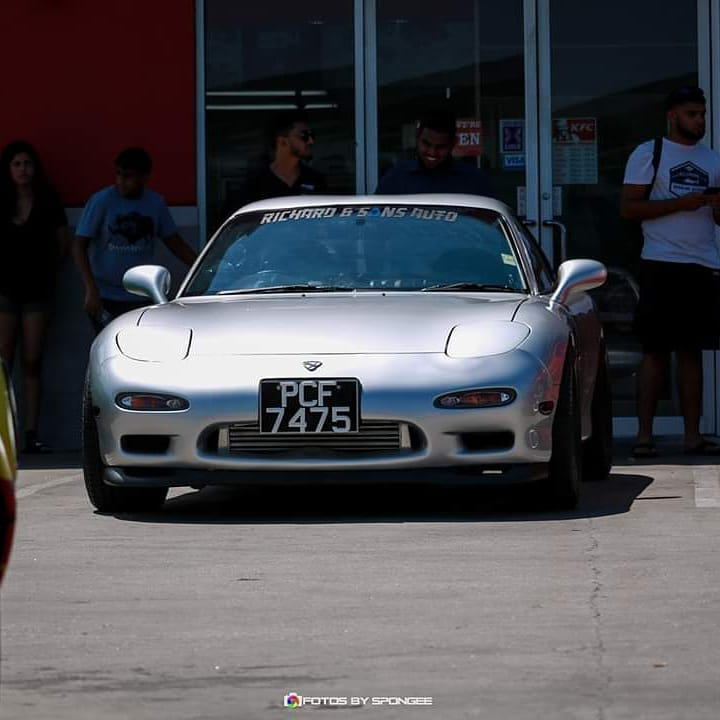License-Plate: (259, 379, 356, 434)
